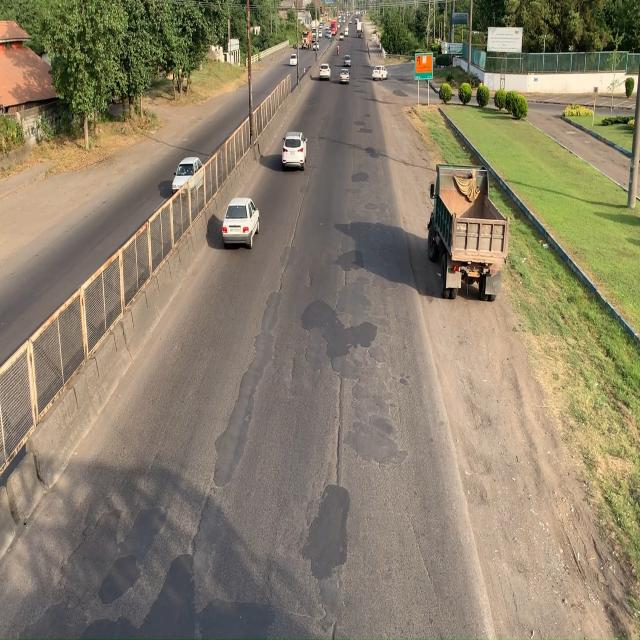Truck: (425, 160, 510, 303)
cars: (222, 198, 260, 248), (171, 152, 206, 201), (280, 129, 309, 173)
